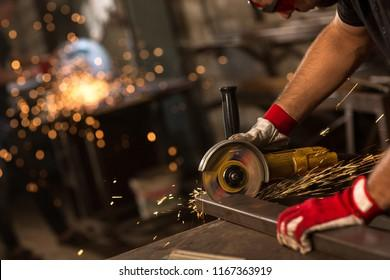gloves: (277, 176, 381, 254), (227, 104, 298, 148)
